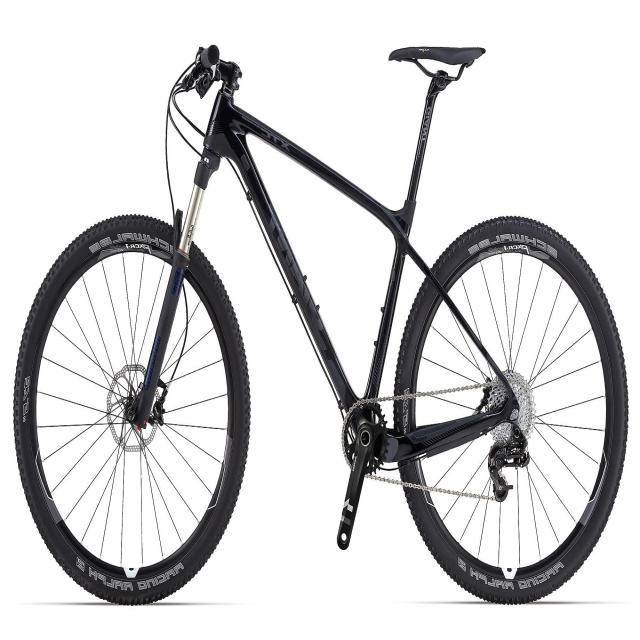bicycle: (14, 46, 628, 604)
